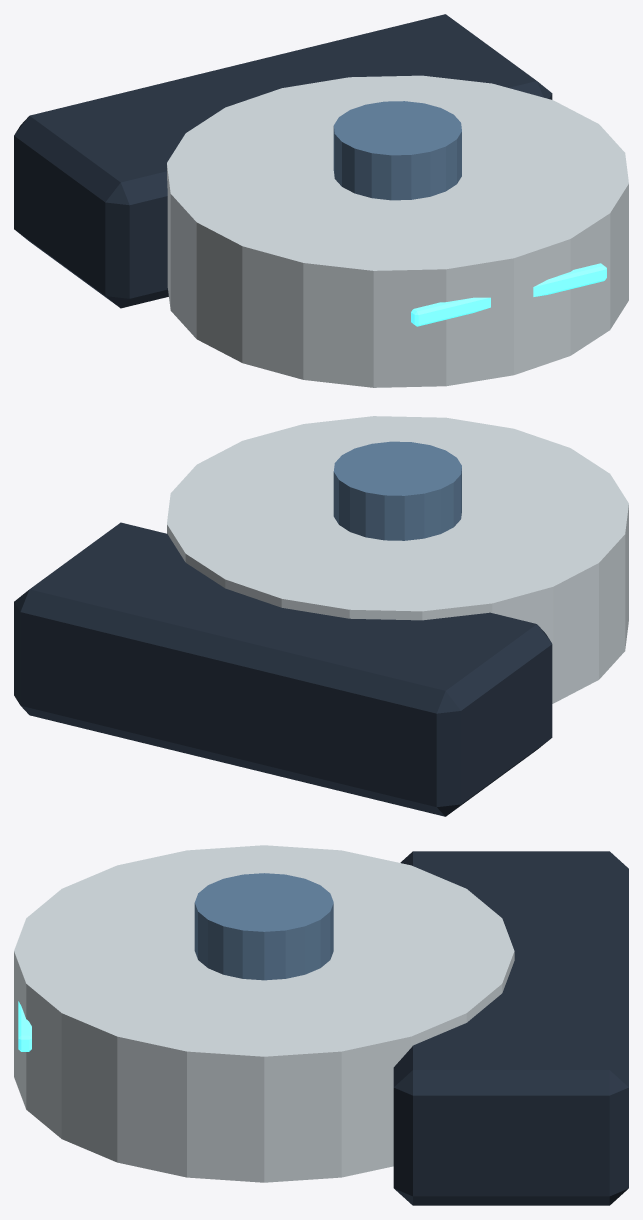
File: utility_11.glb
The picture shows the model from 3 angles, top to bottom: view 1: azimuth 30°, elevation 25°; view 2: azimuth 150°, elevation 25°; view 3: azimuth 270°, elevation 25°; orthographic projection. The views are drawn at different scales.
Visible parts, largest first — view 1: RobotBody, Dock, Lidar, BumperLight; view 2: Dock, RobotBody, Lidar; view 3: RobotBody, Dock, Lidar, BumperLight.
Part boxes in pixels (<box>): RobotBody: <box>167,75,628,387</box>; Dock: <box>14,14,552,308</box>; Lidar: <box>333,101,461,200</box>; BumperLight: <box>411,263,606,326</box>; Dock: <box>14,522,552,816</box>; RobotBody: <box>167,416,628,703</box>; Lidar: <box>333,441,461,540</box>; RobotBody: <box>14,845,514,1182</box>; Dock: <box>393,851,628,1205</box>; Lidar: <box>194,873,333,980</box>; BumperLight: <box>18,1001,31,1051</box>.
Size of the model in its own units: 0.52 by 0.2 by 0.575.
